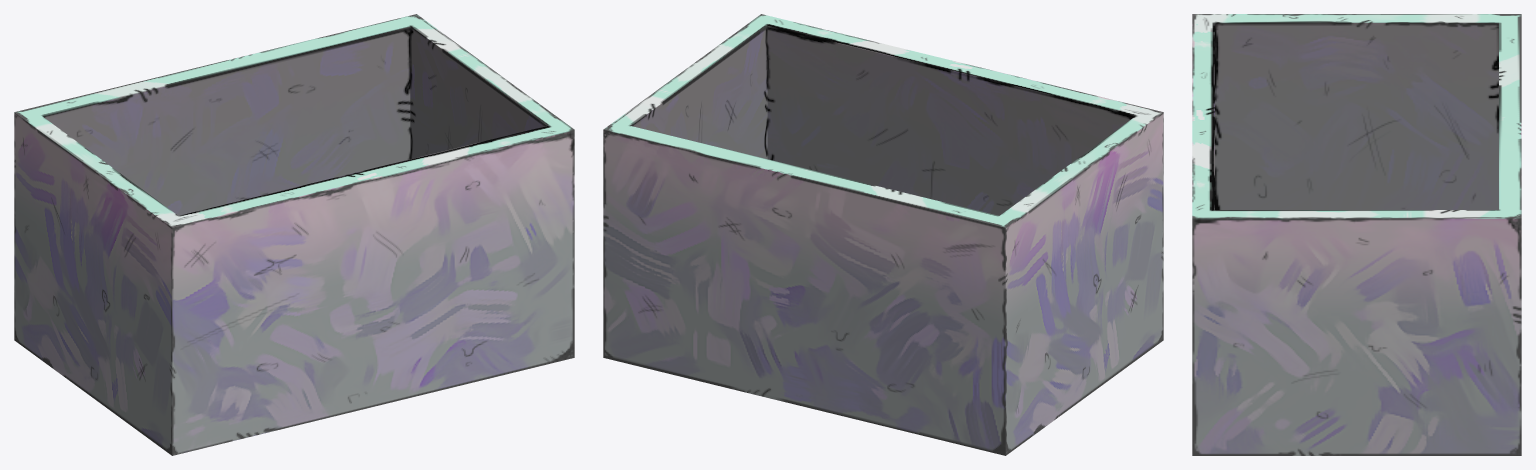
The model's file is Cooler_Bottom.fbx.
3 renders of one model, left to right at view 1: azimuth 30°, elevation 25°; view 2: azimuth 150°, elevation 25°; view 3: azimuth 270°, elevation 25°, orthographic. The views are drawn at different scales.
Parts seen in each view (by area): view 1: Cooler_Bottom; view 2: Cooler_Bottom; view 3: Cooler_Bottom.
Boxes of the visible parts, x1=… form: Cooler_Bottom: x1=14, y1=14, x2=574, y2=455; Cooler_Bottom: x1=603, y1=14, x2=1163, y2=455; Cooler_Bottom: x1=1192, y1=14, x2=1521, y2=455.
Size of the model in its own units: 3.12 by 1.69 by 2.12.
Materials: 1 (1 with a texture image).
